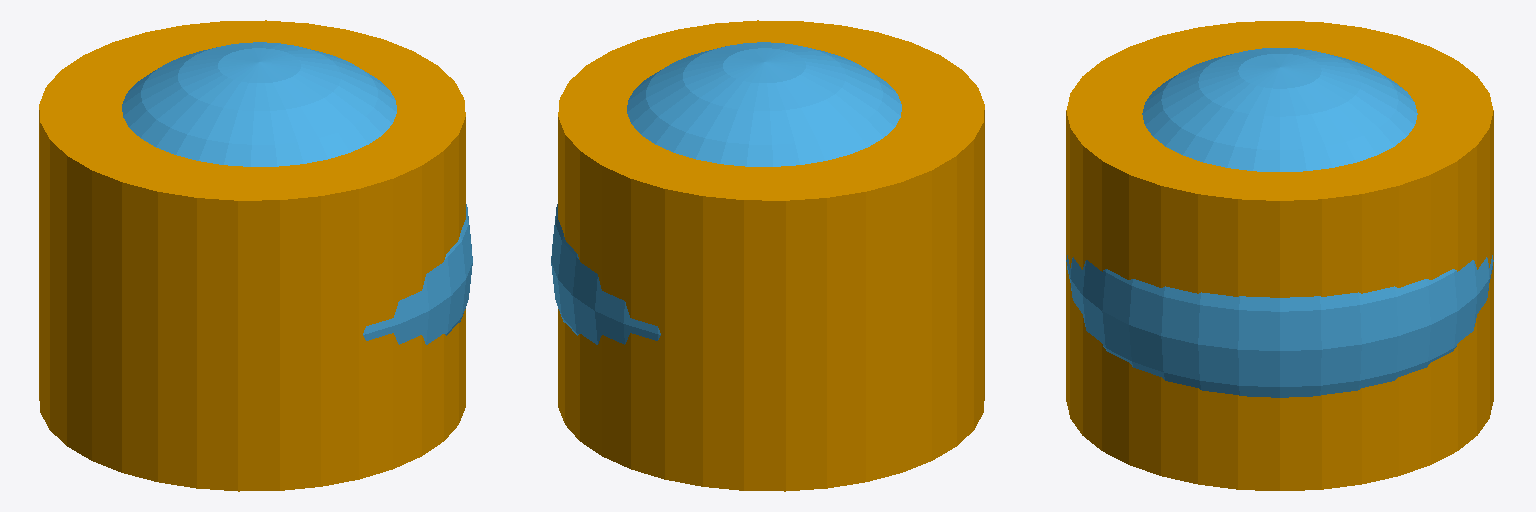
robot.urdf — mira:
<?xml version="1.0"?>
<robot name="mira">
    <link name="base_link">
        <visual>
        <origin rpy="0 0 0" xyz="0 0 0"/>
        <geometry>
            <cylinder radius="0.06" length="0.09"/>
        </geometry>
        </visual>
    </link>
  
    <link name="roll_M1_link">
        <visual>
            <origin rpy="0 0 0" xyz="0 0 0"/>
            <geometry>
                <sphere radius="0.06"/>
            </geometry>
        </visual>
    </link>
    
    <joint name="roll_joint" type="prismatic">
        <parent link="base_link"/>
        <child link="roll_M1_link"/>
        <origin xyz="0.0023 0 -0.0005" rpy="0 0 0"/>
        <limit lower="-0.5" upper="0.5" effort="0.1" velocity="0.005"/>
        <axis xyz="0 0 1"/>
    </joint>
  
</robot>

--- Render facts (derived) ---
3 views of the same robot in one strip: view 1: azimuth 30°, elevation 25°; view 2: azimuth 150°, elevation 25°; view 3: azimuth 270°, elevation 25° (orthographic).
Robot: mira — 2 links, 1 joints (1 prismatic); root link base_link; default pose: every joint at zero.
Links seen in each view (by area): view 1: base_link, roll_M1_link; view 2: base_link, roll_M1_link; view 3: base_link, roll_M1_link.
Link boxes in pixels (<box>): base_link: <box>39,20,465,491</box>; roll_M1_link: <box>122,42,472,344</box>; base_link: <box>558,20,984,491</box>; roll_M1_link: <box>551,42,901,344</box>; base_link: <box>1066,21,1493,490</box>; roll_M1_link: <box>1066,48,1493,397</box>.
Bounding box of the posed robot: 0.1223 × 0.12 × 0.12 m (x, y, z).
Geometry: primitives only (box / cylinder / sphere), no mesh files.
